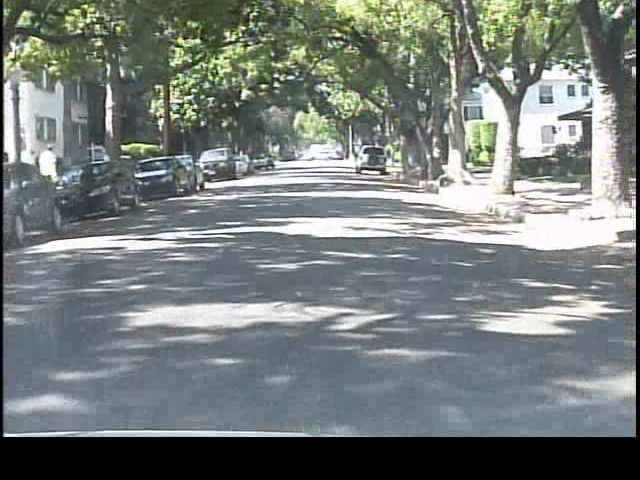person: (38, 138, 66, 203)
